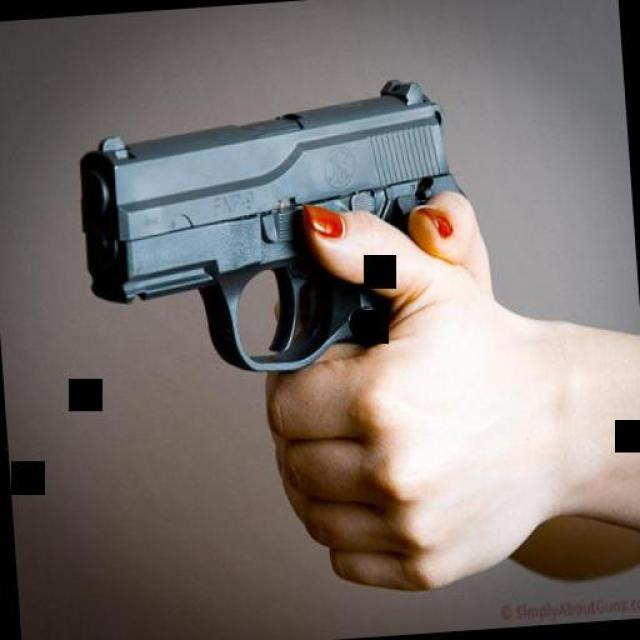gun: (56, 42, 479, 432)
